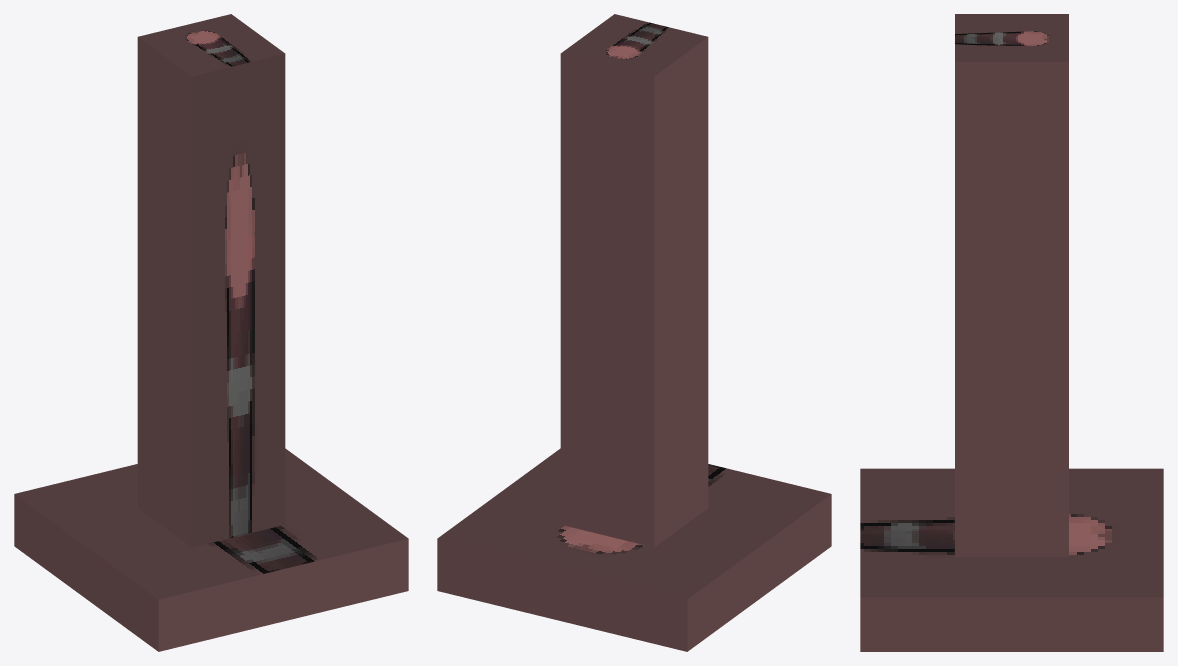
File: Building_SanguphageMeetingTorch.glb
3 views of the same model, side by side, from view 1: azimuth 30°, elevation 25°; view 2: azimuth 150°, elevation 25°; view 3: azimuth 270°, elevation 25° (orthographic). The views are drawn at different scales.
Parts seen in each view (by area): view 1: SanguphageMeetingTorch; view 2: SanguphageMeetingTorch; view 3: SanguphageMeetingTorch.
Part boxes in pixels (box(x1,y1,x2,y2)): SanguphageMeetingTorch: box(14, 14, 408, 651); SanguphageMeetingTorch: box(437, 14, 831, 651); SanguphageMeetingTorch: box(860, 14, 1163, 651).
Bounding box in the file's own units: 0.8 × 1.6 × 0.8.
1 material, 1 textured.
